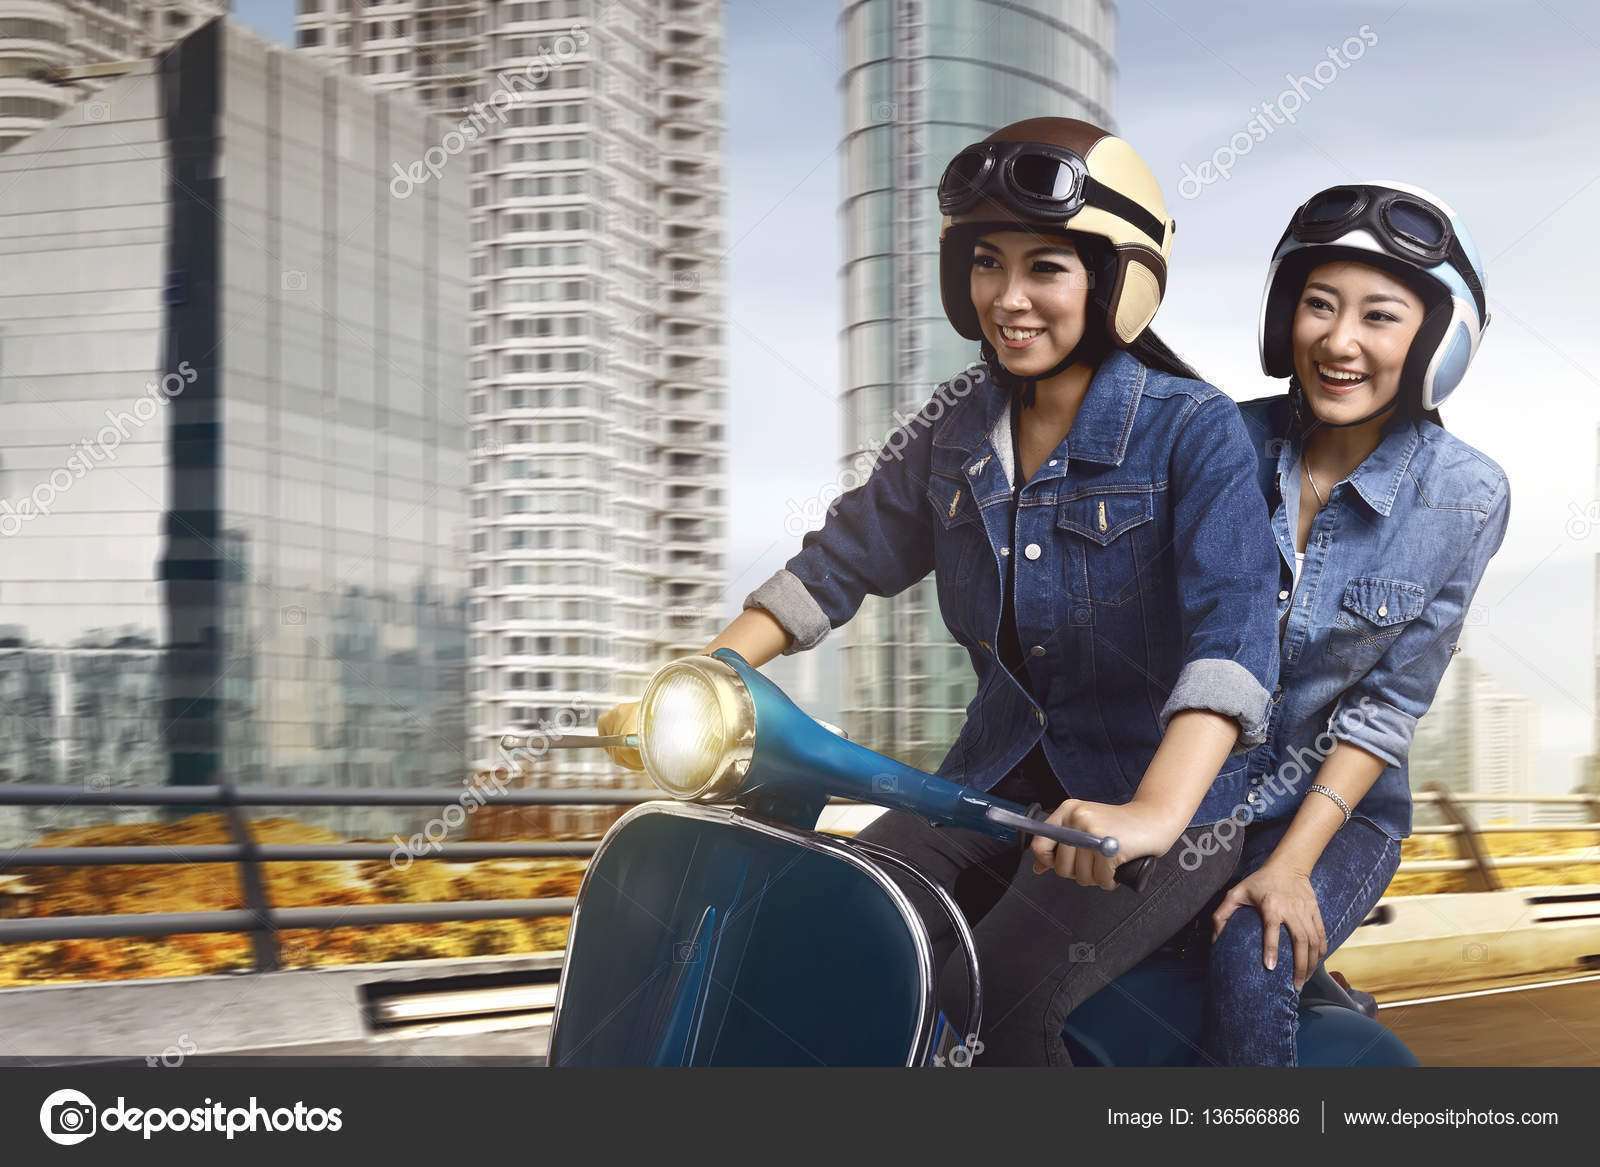helmet: (947, 126, 1183, 341), (1280, 189, 1480, 383)
